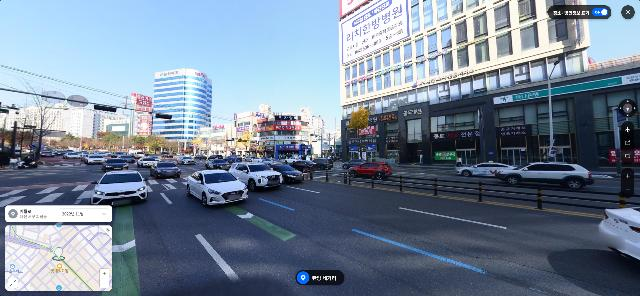ginkgo: (349, 106, 370, 160), (240, 131, 259, 157), (194, 133, 207, 155)
other: (16, 79, 66, 165), (1, 124, 36, 151), (104, 132, 132, 152), (132, 135, 161, 154), (160, 139, 178, 155), (93, 132, 106, 149), (65, 136, 80, 149), (81, 137, 93, 150), (55, 139, 66, 148)
